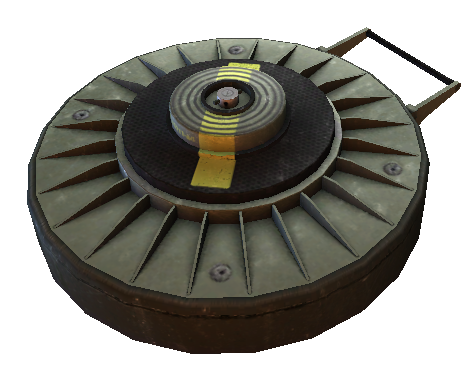car: (14, 4, 470, 366)
